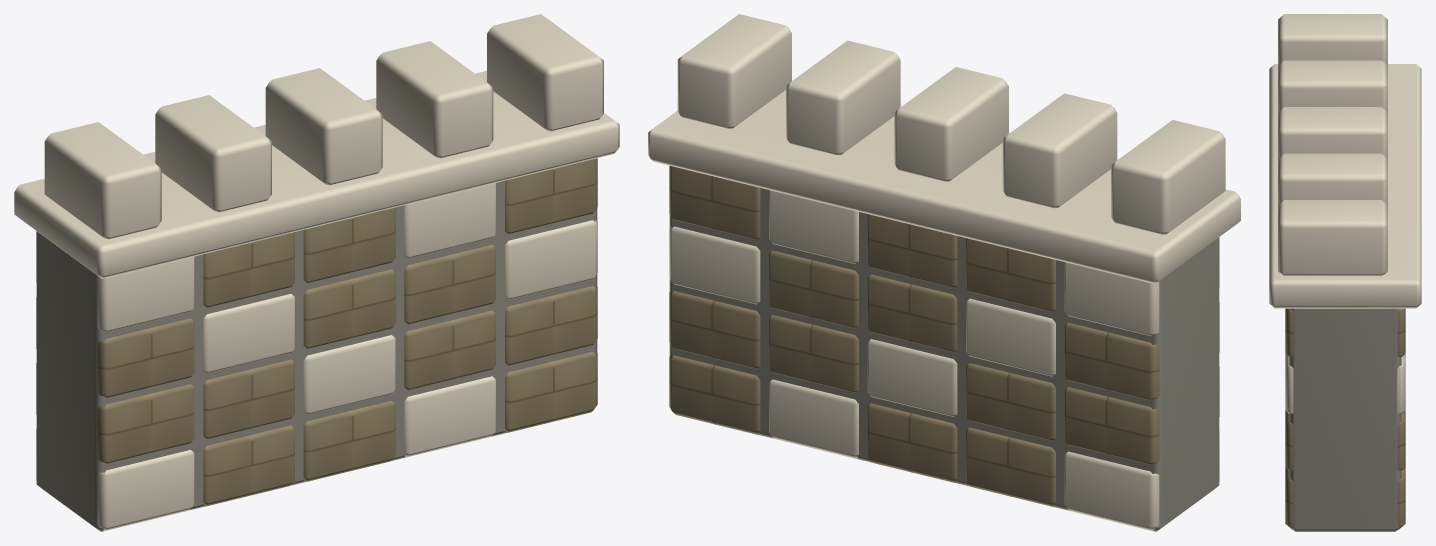
Rendered from capital-v2-wall.glb.
The picture shows the model from 3 angles, left to right: view 1: azimuth 30°, elevation 25°; view 2: azimuth 150°, elevation 25°; view 3: azimuth 270°, elevation 25°; orthographic projection. The views are drawn at different scales.
Parts seen in each view (by area): view 1: module_wall__wall_core, module_wall__wall_walk, module_wall__merlon, module_wall__merlon.003, module_wall__merlon.002, module_wall__merlon.001, module_wall__merlon.004, module_wall__wall_ashlar, module_wall__wall_ashlar.005, module_wall__wall_ashlar.010, module_wall__wall_ashlar.004, module_wall__wall_ashlar.002 (+15 smaller); view 2: module_wall__wall_walk, module_wall__wall_core, module_wall__merlon.001, module_wall__merlon, module_wall__merlon.002, module_wall__merlon.003, module_wall__merlon.004, module_wall__wall_ashlar, module_wall__wall_ashlar.010, module_wall__wall_ashlar.005, module_wall__wall_ashlar.004, module_wall__wall_ashlar.002 (+15 smaller); view 3: module_wall__wall_core, module_wall__wall_walk, module_wall__merlon.004, module_wall__merlon.001, module_wall__merlon.002, module_wall__merlon.003, module_wall__merlon, module_wall__wall_ashlar.004, module_wall__wall_ashlar.014, module_wall__wall_ashlar.009, module_wall__wall_ashlar.019.
Part boxes in pixels (<box>): module_wall__wall_core: <box>36,181,597,531</box>; module_wall__wall_walk: <box>14,71,619,278</box>; module_wall__merlon: <box>44,122,161,239</box>; module_wall__merlon.003: <box>376,41,493,158</box>; module_wall__merlon.002: <box>265,68,382,185</box>; module_wall__merlon.001: <box>155,95,271,212</box>; module_wall__merlon.004: <box>487,14,603,131</box>; module_wall__wall_ashlar: <box>36,429,194,530</box>; module_wall__wall_ashlar.005: <box>36,363,194,463</box>; module_wall__wall_ashlar.010: <box>36,297,194,397</box>; module_wall__wall_ashlar.004: <box>505,351,597,432</box>; module_wall__wall_ashlar.002: <box>303,401,395,481</box>; module_wall__wall_walk: <box>648,90,1240,283</box>; module_wall__wall_core: <box>669,188,1219,531</box>; module_wall__merlon.001: <box>1002,93,1117,208</box>; module_wall__merlon: <box>1111,120,1225,234</box>; module_wall__merlon.002: <box>894,67,1008,181</box>; module_wall__merlon.003: <box>786,40,900,155</box>; module_wall__merlon.004: <box>677,14,791,128</box>; module_wall__wall_ashlar: <box>1064,431,1219,530</box>; module_wall__wall_ashlar.010: <box>1064,302,1219,400</box>; module_wall__wall_ashlar.005: <box>1064,367,1219,464</box>; module_wall__wall_ashlar.004: <box>669,355,760,434</box>; module_wall__wall_ashlar.002: <box>867,403,957,482</box>; module_wall__wall_core: <box>1289,308,1401,531</box>; module_wall__wall_walk: <box>1269,64,1421,308</box>; module_wall__merlon.004: <box>1278,200,1387,275</box>; module_wall__merlon.001: <box>1278,60,1387,112</box>; module_wall__merlon.002: <box>1278,107,1387,158</box>; module_wall__merlon.003: <box>1278,153,1387,205</box>; module_wall__merlon: <box>1278,14,1387,65</box>; module_wall__wall_ashlar.004: <box>1285,467,1405,529</box>; module_wall__wall_ashlar.014: <box>1285,354,1405,413</box>; module_wall__wall_ashlar.009: <box>1285,410,1405,470</box>; module_wall__wall_ashlar.019: <box>1285,308,1405,357</box>.
Bounding box in the file's own units: 0.208 × 0.1375 × 0.061.
Materials: 3 (1 with a texture image).
